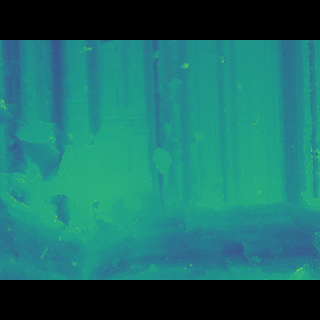Loch: (0, 188, 320, 249), (0, 105, 167, 191)
